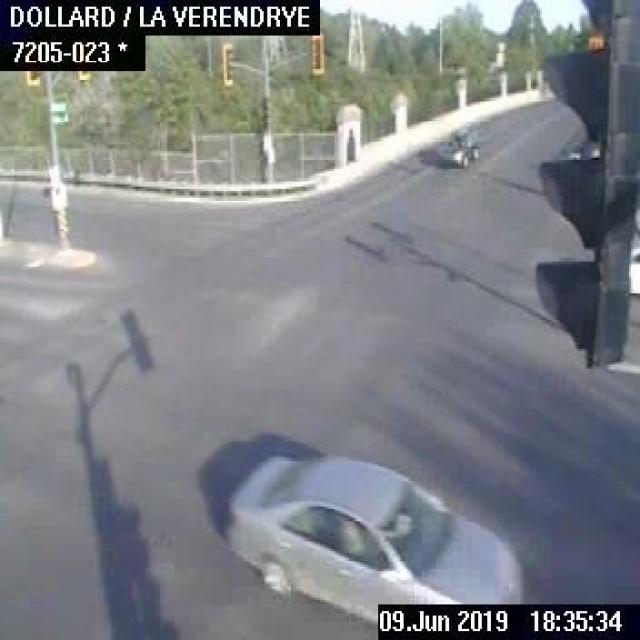vehicle: (218, 451, 522, 622), (436, 125, 478, 165), (625, 216, 638, 294)
